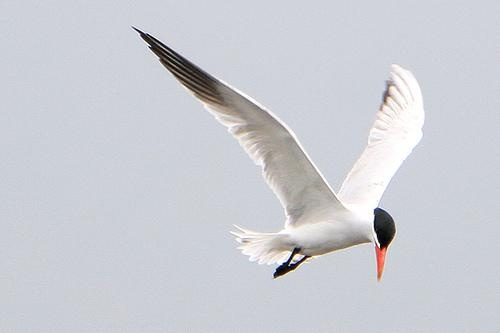bird: (128, 24, 426, 281)
